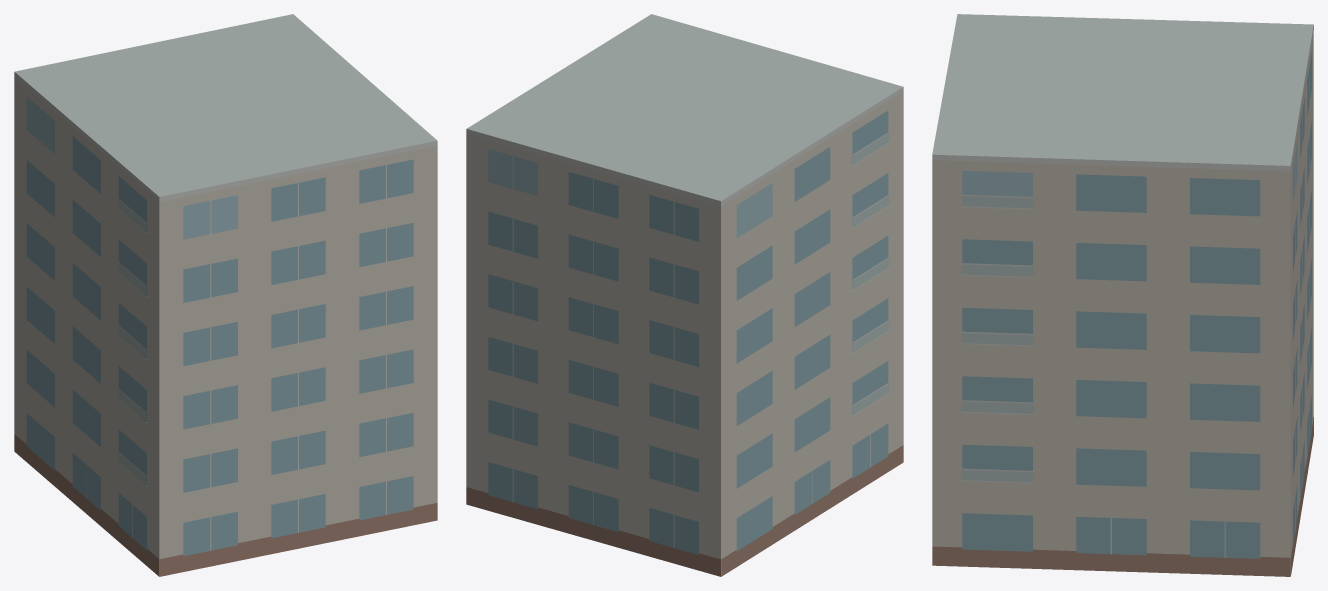
Rendered from survey-upis-32976026.glb.
3 views of the same model, side by side, from view 1: azimuth 30°, elevation 25°; view 2: azimuth 150°, elevation 25°; view 3: azimuth 270°, elevation 25° (orthographic). The views are drawn at different scales.
Parts seen in each view (by area): view 1: survey-upis-32976026.tmp; view 2: survey-upis-32976026.tmp; view 3: survey-upis-32976026.tmp.
Part boxes in pixels (x1,y1,x2,y2): survey-upis-32976026.tmp: (14,14,437,576); survey-upis-32976026.tmp: (466,14,903,576); survey-upis-32976026.tmp: (932,14,1313,576).
Bounding box in the file's own units: 14.52 × 18.3 × 15.41.
